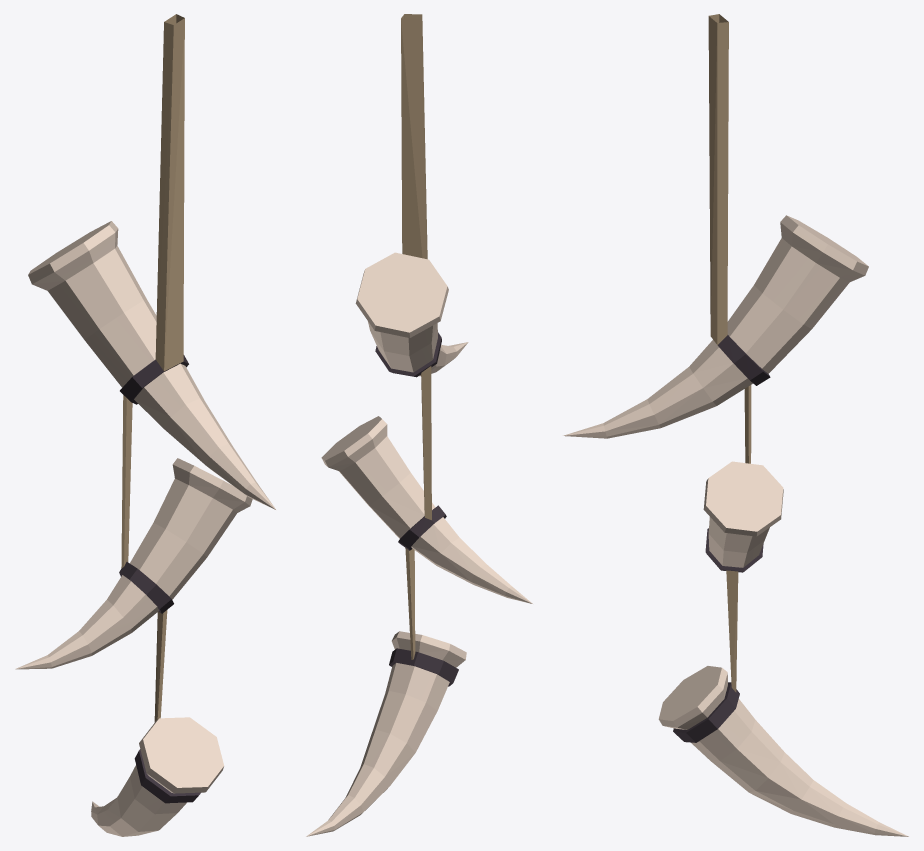
The model's file is Bones Ornament.fbx.
3 renders of one model, left to right at view 1: azimuth 30°, elevation 25°; view 2: azimuth 150°, elevation 25°; view 3: azimuth 270°, elevation 25°, orthographic. The views are drawn at different scales.
Parts seen in each view (by area): view 1: Bones Ornament; view 2: Bones Ornament; view 3: Bones Ornament.
Part boxes in pixels (left/top/right/bottom): Bones Ornament: left=15, top=14, right=275, bottom=836; Bones Ornament: left=306, top=14, right=532, bottom=836; Bones Ornament: left=563, top=14, right=908, bottom=836.
Size of the model in its own units: 0.3398 by 1.21 by 0.4695.
